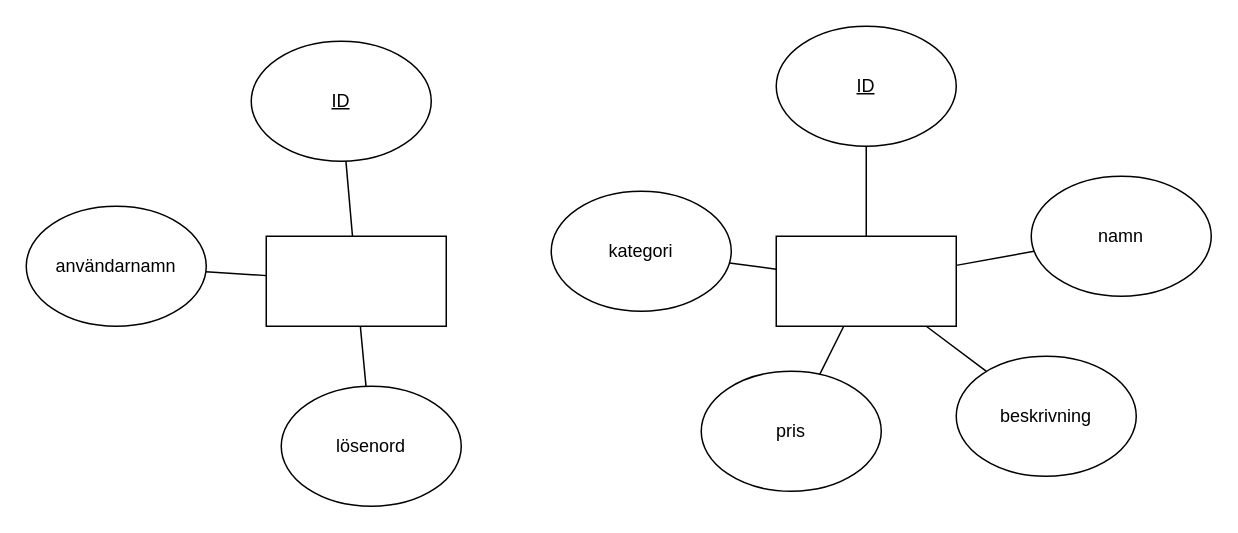
The diagram is 1238 pixels wide and 533 high, and some of its shapes have lost their labels. The box of each missing label's shape, as (x1, y1, x2, y2) in pixels:
menu: (775, 235, 956, 326)
user: (265, 235, 446, 326)
